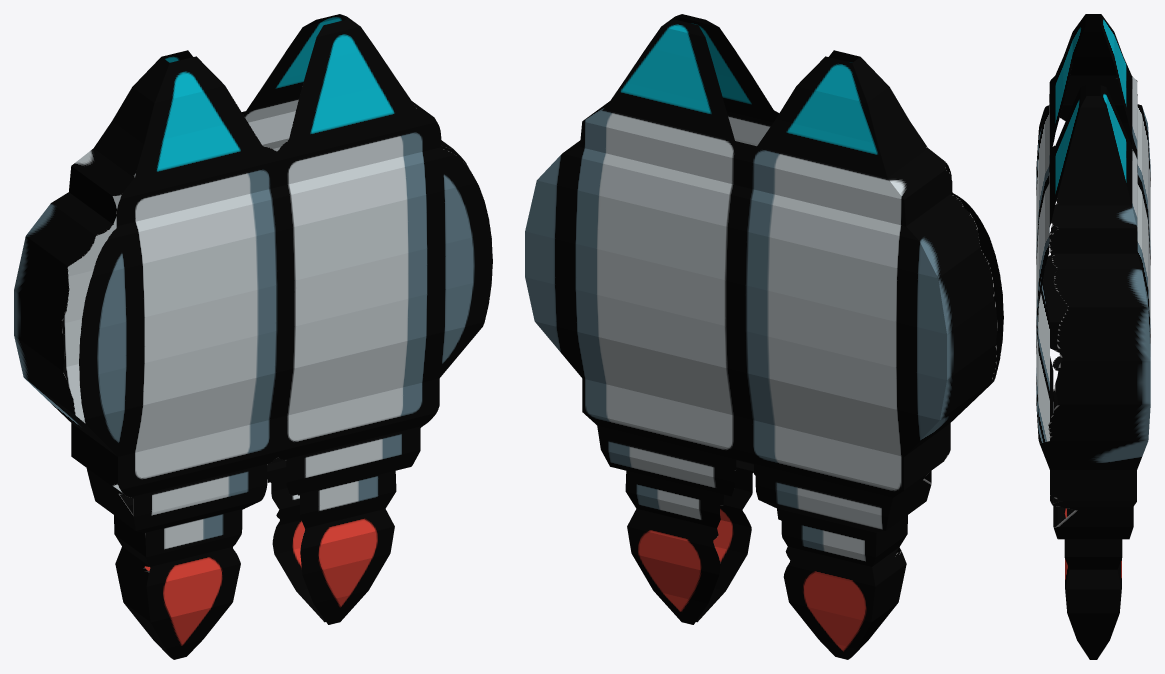
The model's file is Jetpack.fbx.
The picture shows the model from 3 angles, left to right: view 1: azimuth 30°, elevation 25°; view 2: azimuth 150°, elevation 25°; view 3: azimuth 270°, elevation 25°; orthographic projection. The views are drawn at different scales.
Visible parts, largest first — view 1: Cube; view 2: Cube; view 3: Cube.
Part boxes in pixels (x1,y1,x2,y2): Cube: [14, 14, 492, 659]; Cube: [525, 14, 1003, 659]; Cube: [1036, 14, 1150, 659].
Size of the model in its own units: 365 by 498 by 91.16.
